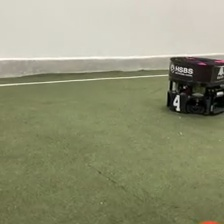robot: (165, 54, 224, 117)
